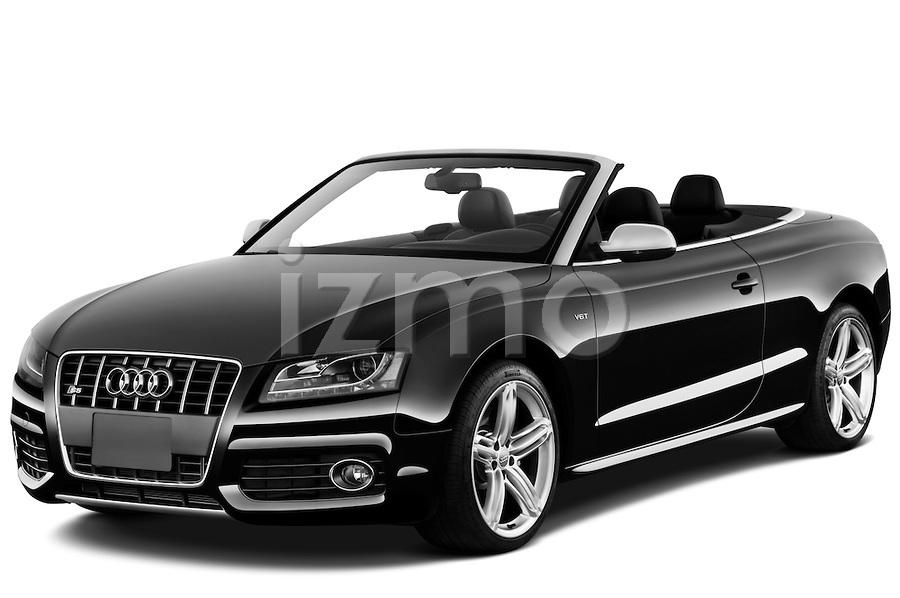car: (7, 149, 897, 556)
